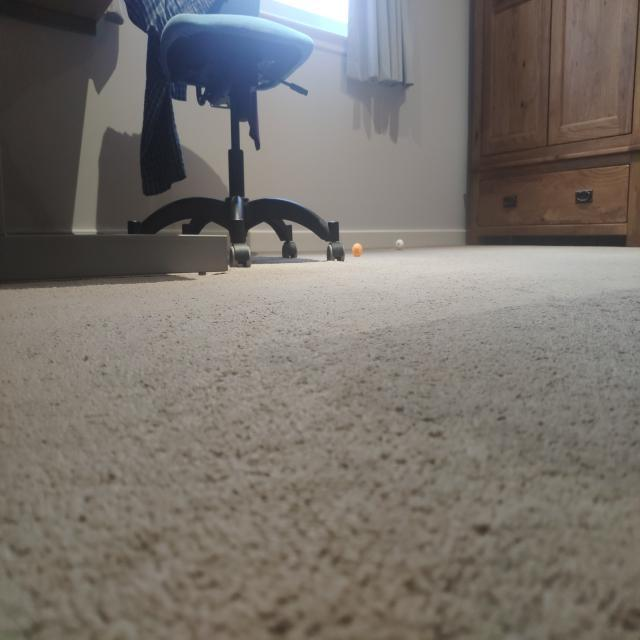oball: (351, 242, 363, 258)
